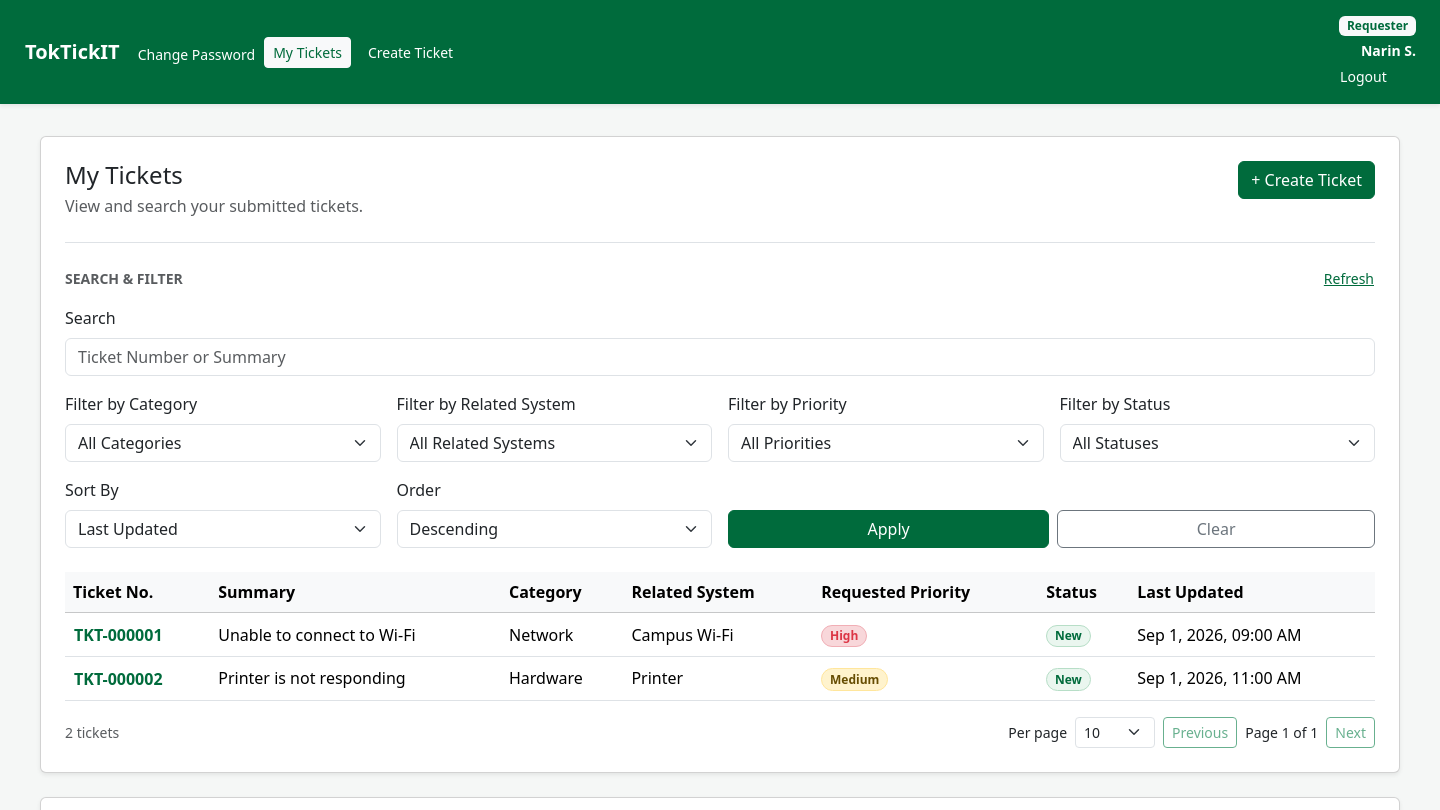
Lab 2 - My Tickets UI › shows a no-results state when search returns no tickets
This screenshot has width=1440, height=810.
Expected: the heading "My Tickets" is shown, [65, 158, 183, 191]
In the search field labelled "Search": point(720, 357) [65, 338, 1375, 376], type "missing"
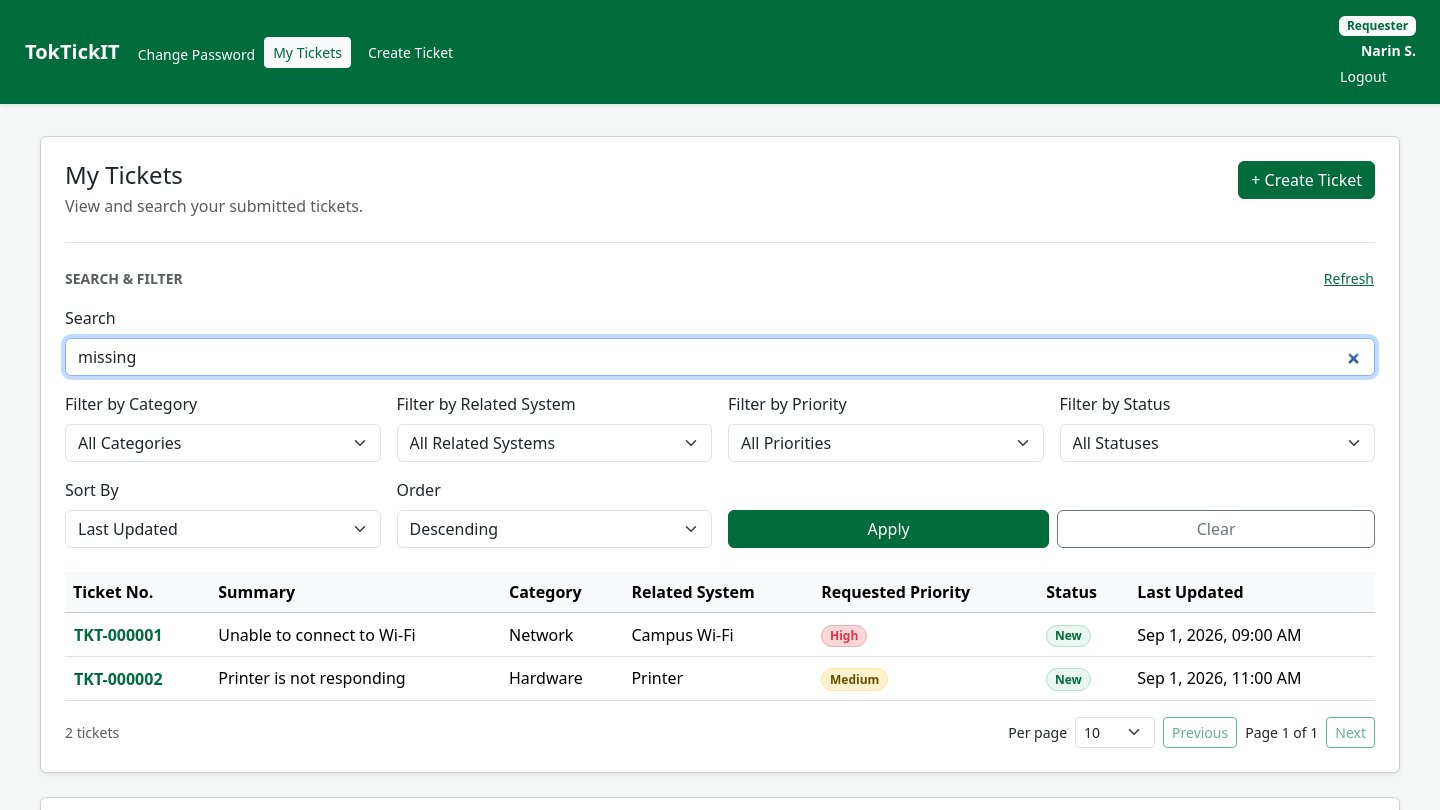
Click the button "Apply": point(889, 529) [728, 510, 1049, 548]
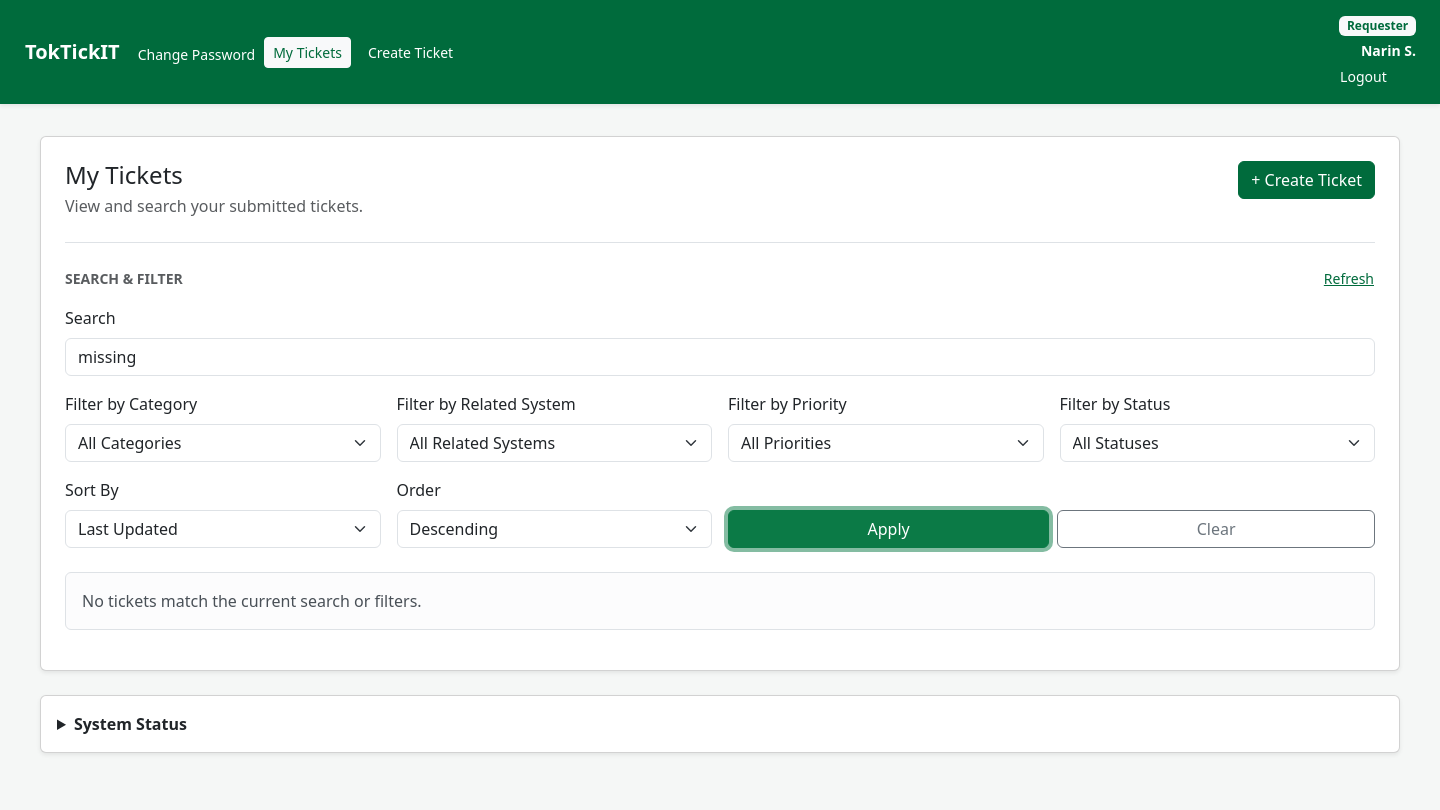
Now the text "No tickets match the current search or filters." is shown, box [65, 572, 1375, 630]
